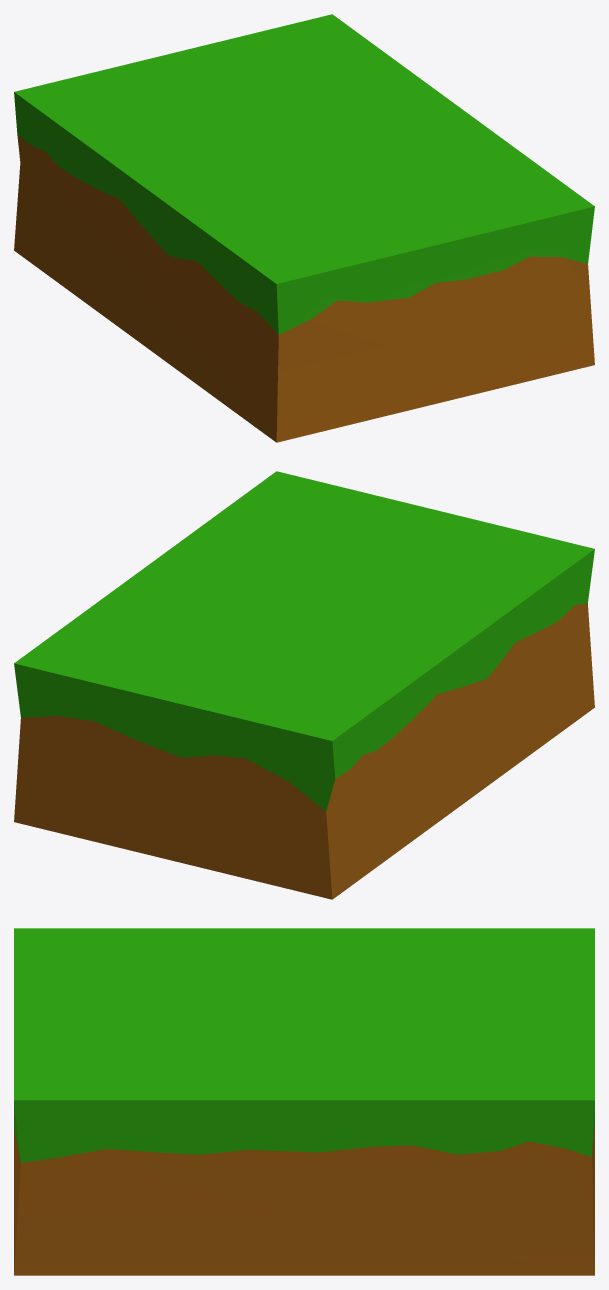
File: Platform Steam6NonSpawn.fbx
3 renders of one model, top to bottom at view 1: azimuth 30°, elevation 25°; view 2: azimuth 150°, elevation 25°; view 3: azimuth 270°, elevation 25°, orthographic. The views are drawn at different scales.
Parts seen in each view (by area): view 1: Cube; view 2: Cube; view 3: Cube.
Part boxes in pixels (left/top/right/bottom): Cube: left=14, top=14, right=594, bottom=442; Cube: left=14, top=471, right=594, bottom=899; Cube: left=14, top=928, right=594, bottom=1275.
Bounding box in the file's own units: 2100 × 1000 × 3000.
